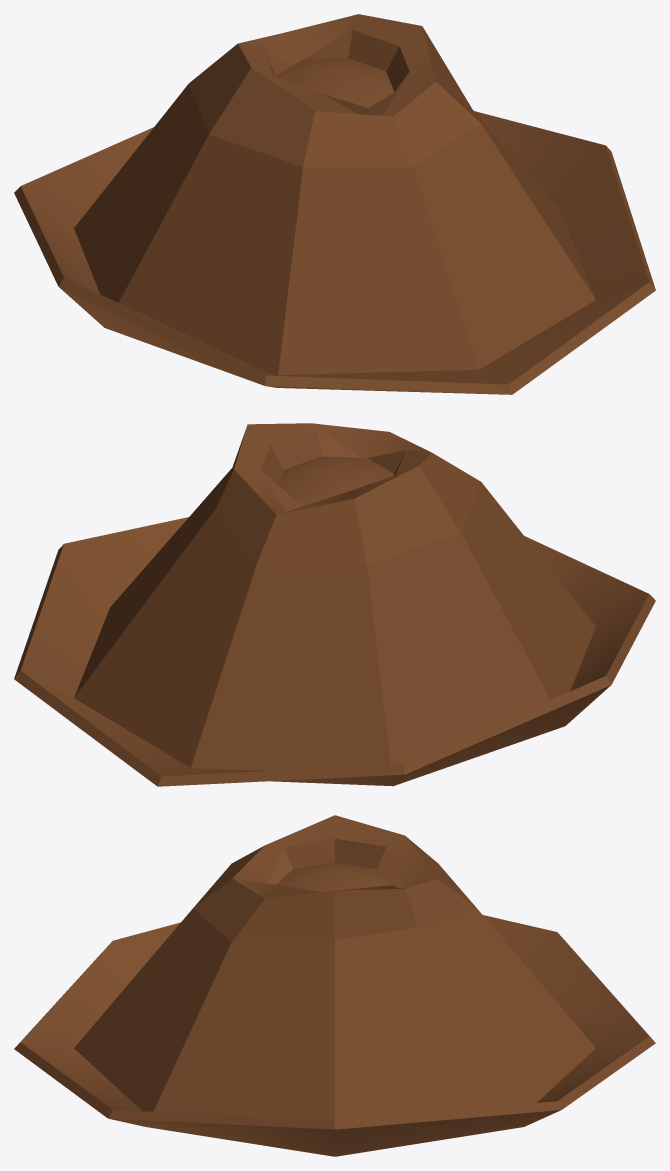
File: hat.fbx
3 renders of one model, top to bottom at view 1: azimuth 30°, elevation 25°; view 2: azimuth 150°, elevation 25°; view 3: azimuth 270°, elevation 25°, orthographic. The views are drawn at different scales.
Visible parts, largest first — view 1: pCylinder1; view 2: pCylinder1; view 3: pCylinder1.
Boxes of the visible parts, left/top/right/bottom form: pCylinder1: left=14, top=14, right=655, bottom=394; pCylinder1: left=14, top=423, right=655, bottom=786; pCylinder1: left=14, top=815, right=655, bottom=1156.
Bounding box in the file's own units: 9.92 × 3.85 × 11.02.
